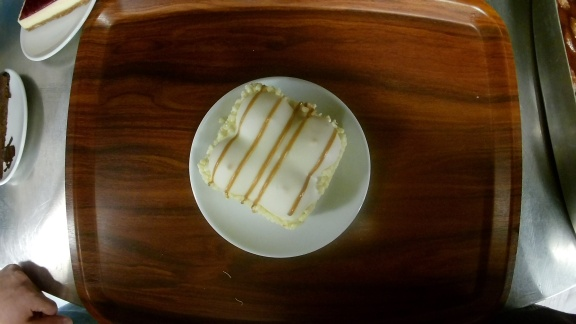beyazpasta: (188, 75, 372, 257)
